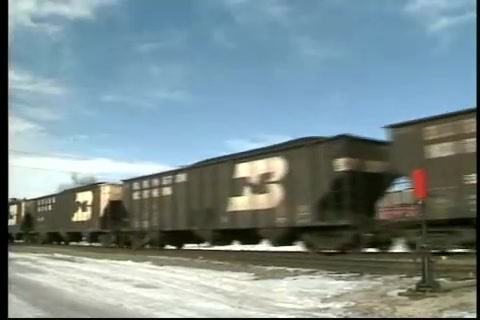train: (10, 108, 477, 253)
